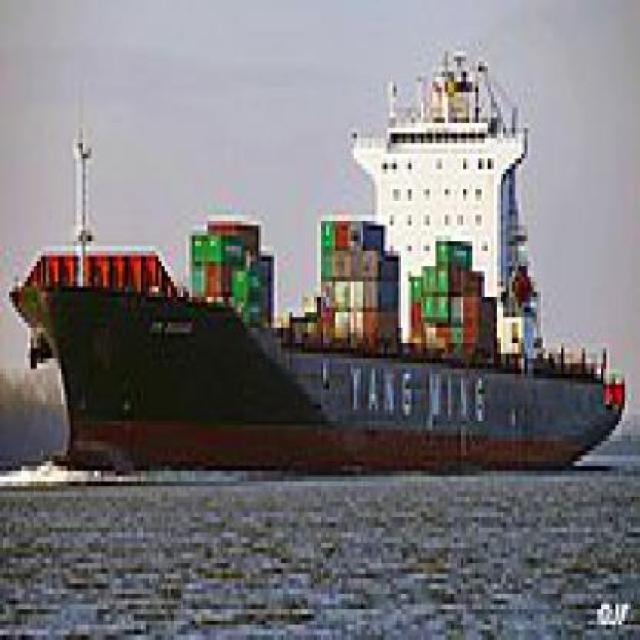container: (13, 73, 629, 497)
